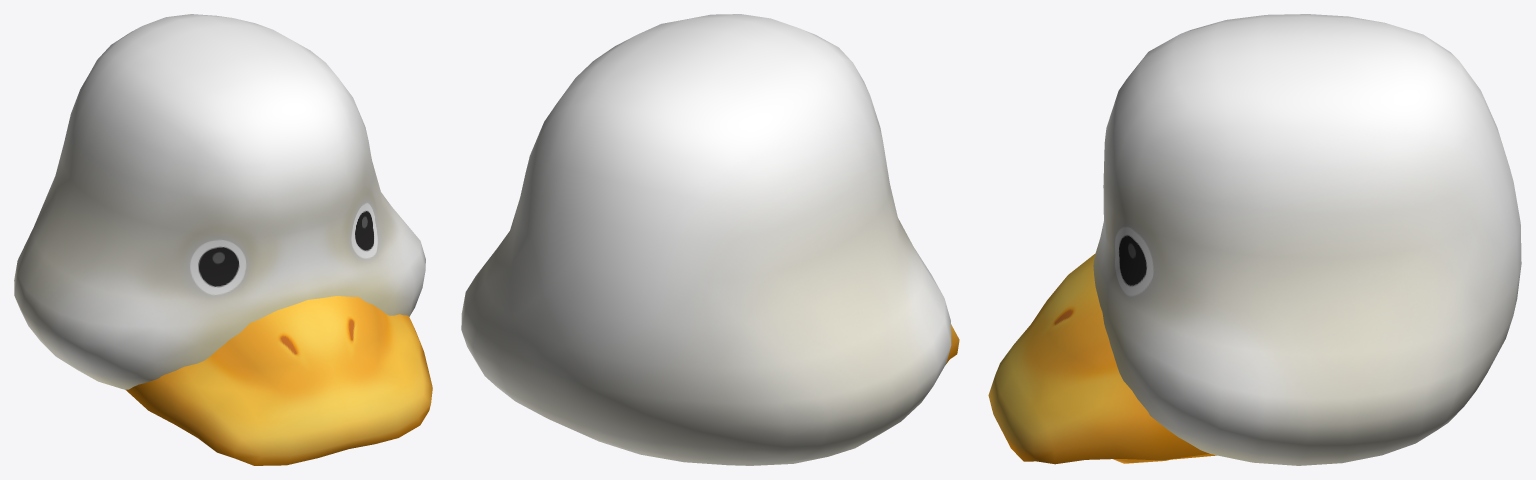
Rendered from duck.FBX.
3 renders of one model, left to right at view 1: azimuth 30°, elevation 25°; view 2: azimuth 150°, elevation 25°; view 3: azimuth 270°, elevation 25°, orthographic. The views are drawn at different scales.
Visible parts, largest first — view 1: duck; view 2: duck; view 3: duck.
Boxes of the visible parts, left/top/right/bottom form: duck: left=14, top=14, right=432, bottom=465; duck: left=461, top=14, right=959, bottom=465; duck: left=988, top=14, right=1521, bottom=465.
Size of the model in its own units: 36.06 by 32.03 by 38.76.
